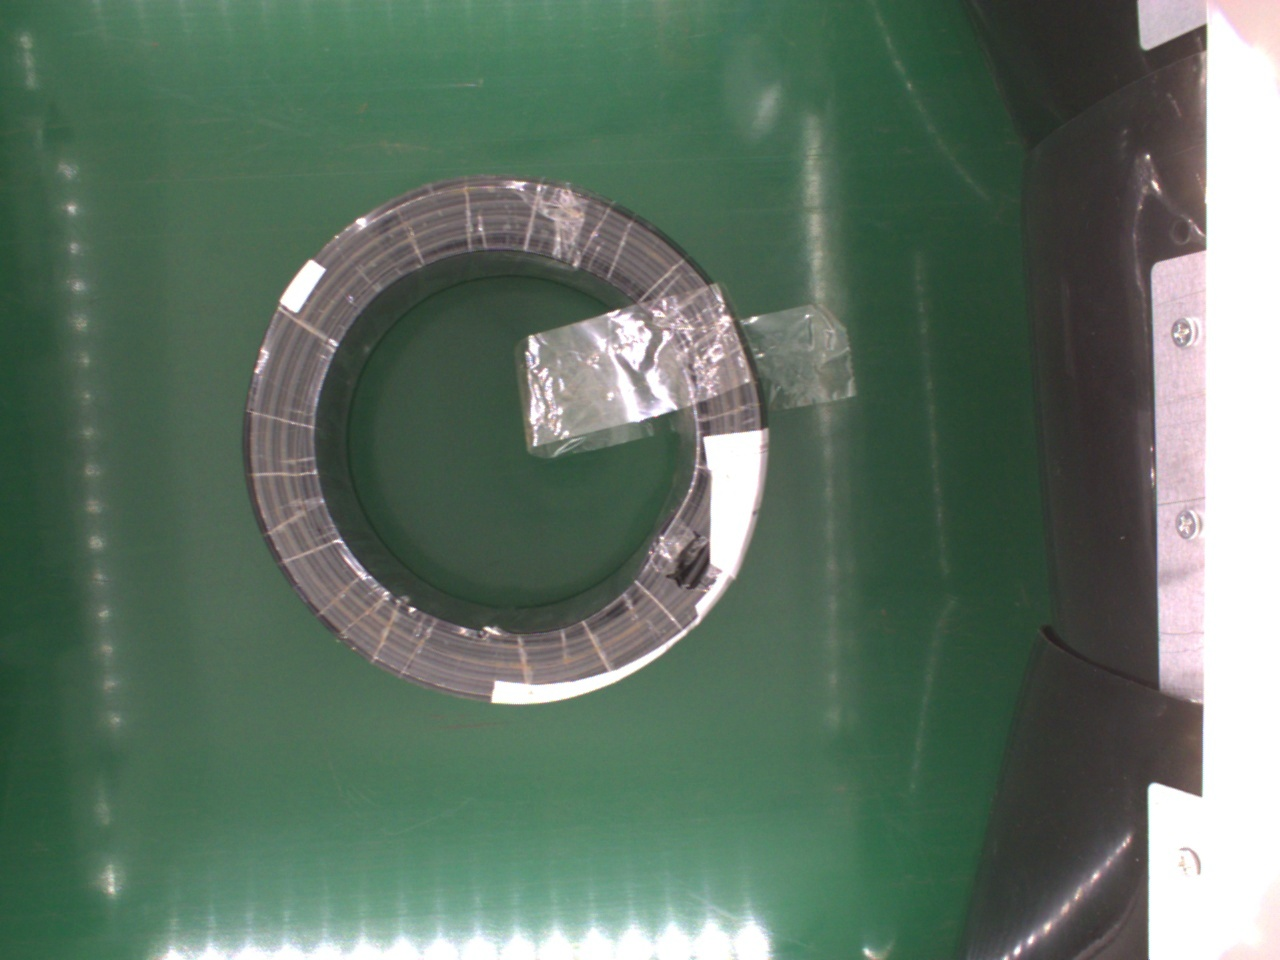black: (234, 175, 762, 706)
